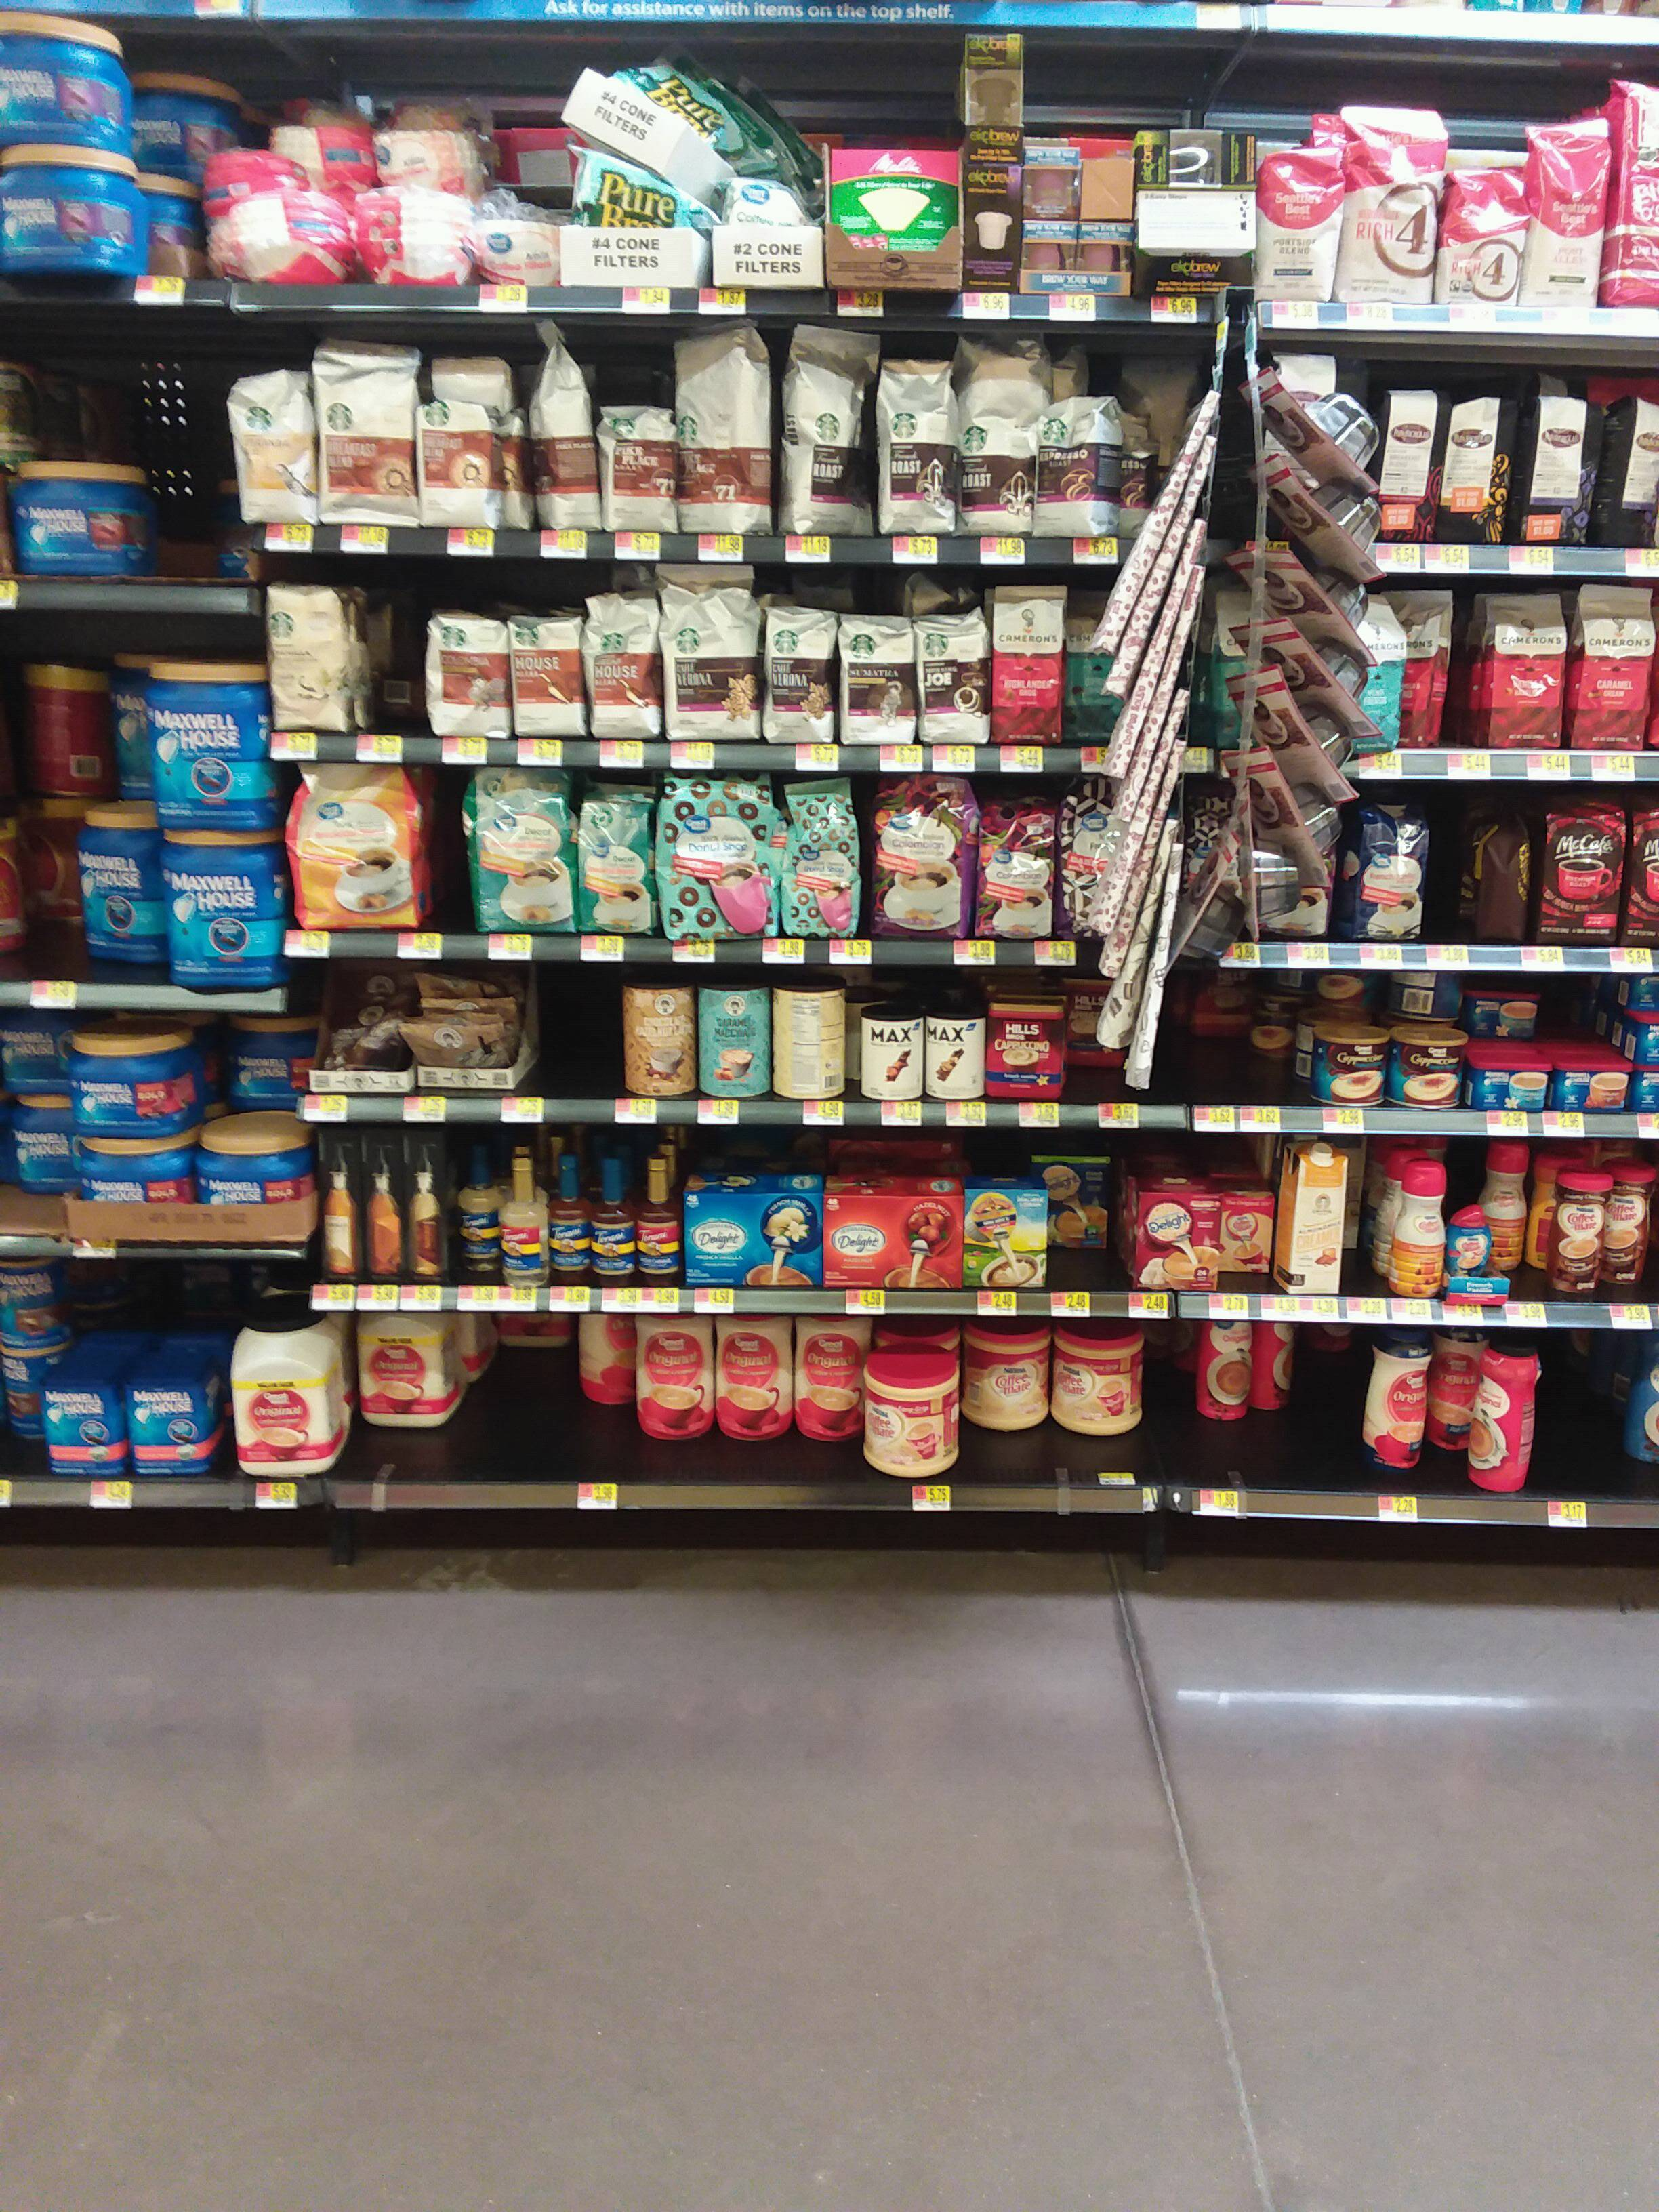product: (1124, 374, 1370, 1008), (1335, 99, 1445, 305), (777, 326, 877, 536), (228, 1303, 343, 1484), (301, 768, 432, 927), (659, 775, 781, 942), (153, 826, 277, 989), (829, 145, 964, 294), (678, 326, 774, 533), (315, 333, 418, 523), (864, 772, 974, 941), (2, 146, 141, 279), (150, 650, 258, 820), (3, 458, 159, 575), (465, 768, 572, 935), (1520, 113, 1610, 308), (958, 331, 1039, 540), (554, 165, 694, 286), (685, 1170, 823, 1291), (261, 573, 359, 740), (824, 1177, 964, 1287), (61, 1026, 193, 1139), (411, 965, 519, 1103), (1474, 594, 1568, 751), (878, 354, 957, 542), (568, 61, 744, 143), (2, 30, 131, 141), (1534, 801, 1631, 946), (660, 596, 756, 740), (17, 653, 113, 798), (1575, 578, 1652, 758), (1520, 374, 1598, 549), (197, 1120, 308, 1242), (716, 162, 824, 287), (868, 1348, 965, 1486), (1140, 192, 1260, 303), (1439, 381, 1520, 547), (782, 775, 861, 944), (1469, 1325, 1546, 1498), (537, 320, 598, 535), (572, 782, 653, 941), (352, 1308, 453, 1432), (972, 792, 1056, 941), (833, 606, 920, 747), (230, 371, 308, 528), (995, 580, 1066, 751), (418, 401, 509, 533), (1464, 782, 1534, 944), (584, 589, 660, 735), (1042, 401, 1122, 540), (1262, 148, 1333, 303), (418, 615, 505, 740), (505, 604, 584, 744), (321, 963, 403, 1092), (1363, 1331, 1432, 1480), (82, 1143, 190, 1237), (78, 808, 141, 968), (636, 1315, 714, 1442), (601, 404, 678, 533), (1448, 165, 1518, 307), (347, 186, 453, 279), (1291, 1146, 1358, 1294), (720, 1312, 795, 1442), (1063, 1329, 1154, 1435), (1396, 585, 1453, 751), (767, 603, 831, 749), (769, 970, 842, 1099), (920, 604, 988, 742), (1129, 1188, 1220, 1291), (695, 974, 769, 1101), (223, 197, 336, 279), (971, 1320, 1058, 1426), (965, 1183, 1051, 1289), (620, 975, 694, 1099), (1382, 381, 1436, 547), (1373, 796, 1432, 944), (1546, 1162, 1608, 1298), (40, 1366, 119, 1474), (1387, 1162, 1446, 1305), (796, 1318, 864, 1440), (125, 1374, 206, 1477), (967, 31, 1030, 162), (220, 1012, 305, 1108), (498, 1139, 547, 1294), (403, 1120, 448, 1285), (965, 169, 1021, 300), (986, 1001, 1060, 1101), (362, 1120, 404, 1285), (1032, 146, 1079, 293), (319, 1122, 361, 1284), (21, 806, 77, 927), (1143, 131, 1258, 188), (1195, 1318, 1256, 1426), (859, 1008, 925, 1106), (0, 1258, 77, 1341), (1316, 1019, 1385, 1109), (1391, 1031, 1471, 1109), (1051, 1158, 1119, 1251), (636, 1151, 681, 1287), (375, 127, 483, 183), (477, 209, 554, 286), (594, 1155, 636, 1292), (1614, 1162, 1659, 1285), (925, 1014, 985, 1108), (552, 1146, 591, 1291), (457, 1141, 498, 1273), (579, 1310, 633, 1411), (1474, 1049, 1554, 1108), (1220, 1188, 1274, 1273), (1448, 1209, 1497, 1299), (1556, 1050, 1629, 1109), (296, 131, 368, 188), (207, 143, 289, 192), (1082, 152, 1136, 218), (1082, 223, 1131, 296), (1467, 989, 1551, 1028)
